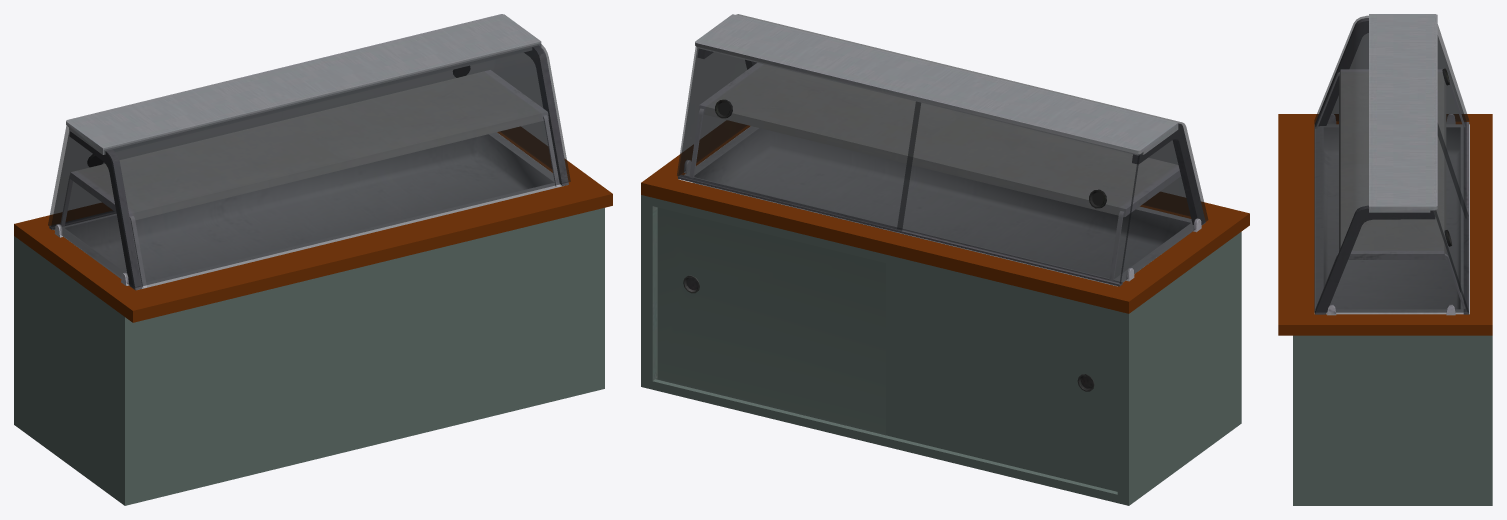
Rendered from SM_Counter_Hot_01.glb.
3 renders of one model, left to right at view 1: azimuth 30°, elevation 25°; view 2: azimuth 150°, elevation 25°; view 3: azimuth 270°, elevation 25°, orthographic. The views are drawn at different scales.
Visible parts, largest first — view 1: SM_Counter_Hot_01; view 2: SM_Counter_Hot_01; view 3: SM_Counter_Hot_01.
Boxes of the visible parts, x1,y1,x2,y2 form: SM_Counter_Hot_01: [14, 14, 612, 505]; SM_Counter_Hot_01: [641, 14, 1249, 505]; SM_Counter_Hot_01: [1278, 14, 1492, 505].
Size of the model in its own units: 2.5 by 1.6 by 1.07.
Materials: 4 (3 with a texture image).
